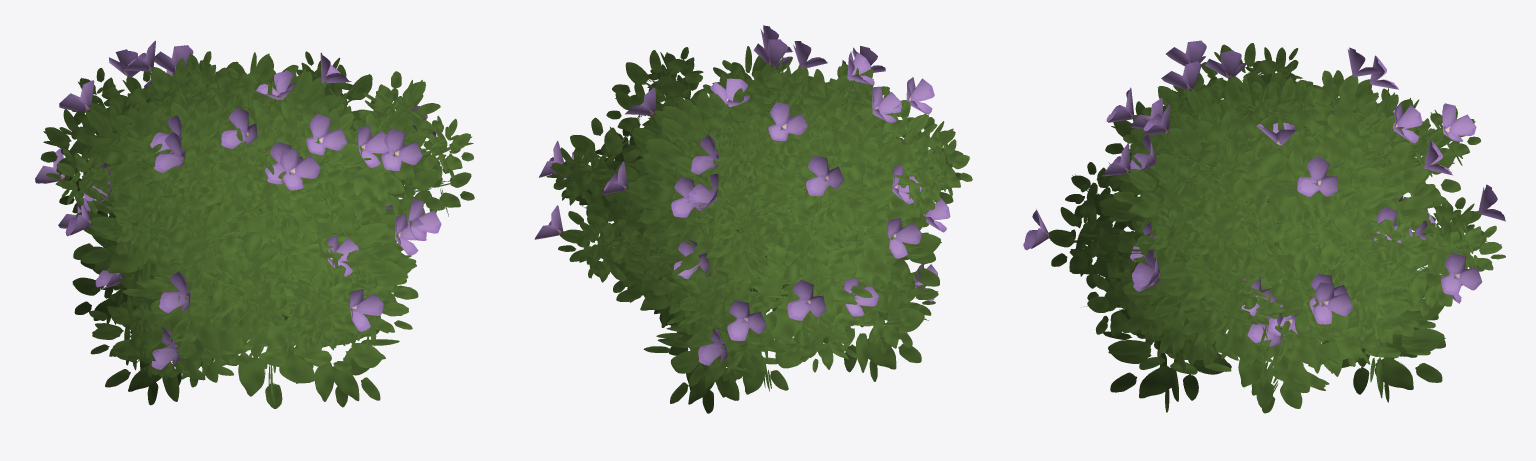
Rendered from Bush_Flowers.glb.
3 renders of one model, left to right at view 1: azimuth 30°, elevation 25°; view 2: azimuth 150°, elevation 25°; view 3: azimuth 270°, elevation 25°, orthographic. The views are drawn at different scales.
Visible parts, largest first — view 1: Bush_Common_Flowers; view 2: Bush_Common_Flowers; view 3: Bush_Common_Flowers.
Part boxes in pixels (x1,y1,x2,y2): Bush_Common_Flowers: (35, 40, 474, 408); Bush_Common_Flowers: (534, 25, 972, 413); Bush_Common_Flowers: (1023, 40, 1505, 413).
Bounding box in the file's own units: 1.91 × 1.58 × 1.97.
Materials: 2 (2 with a texture image).
